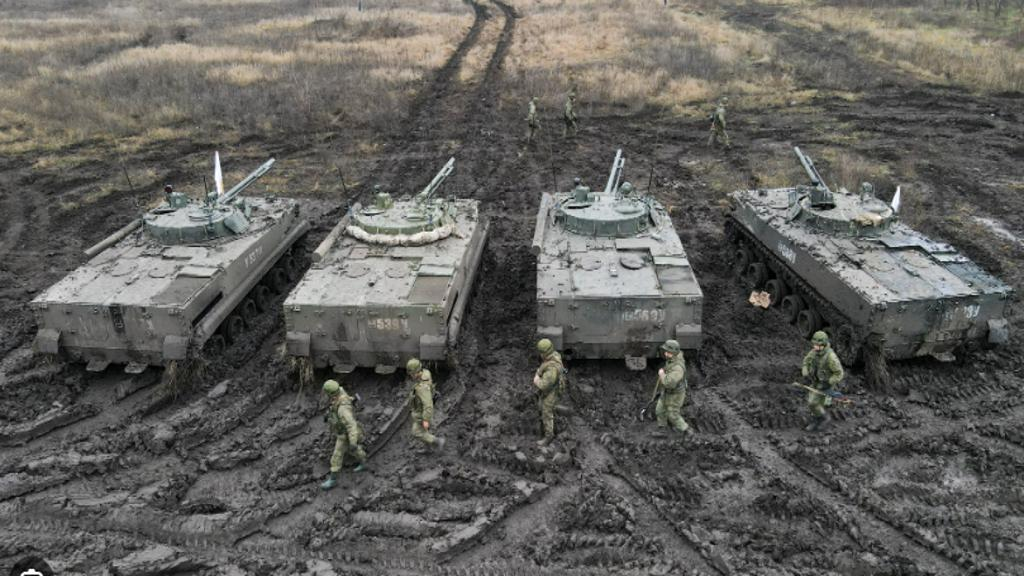APC-IFV: (726, 145, 1010, 372), (30, 150, 310, 380), (285, 150, 492, 388), (531, 144, 704, 361)
